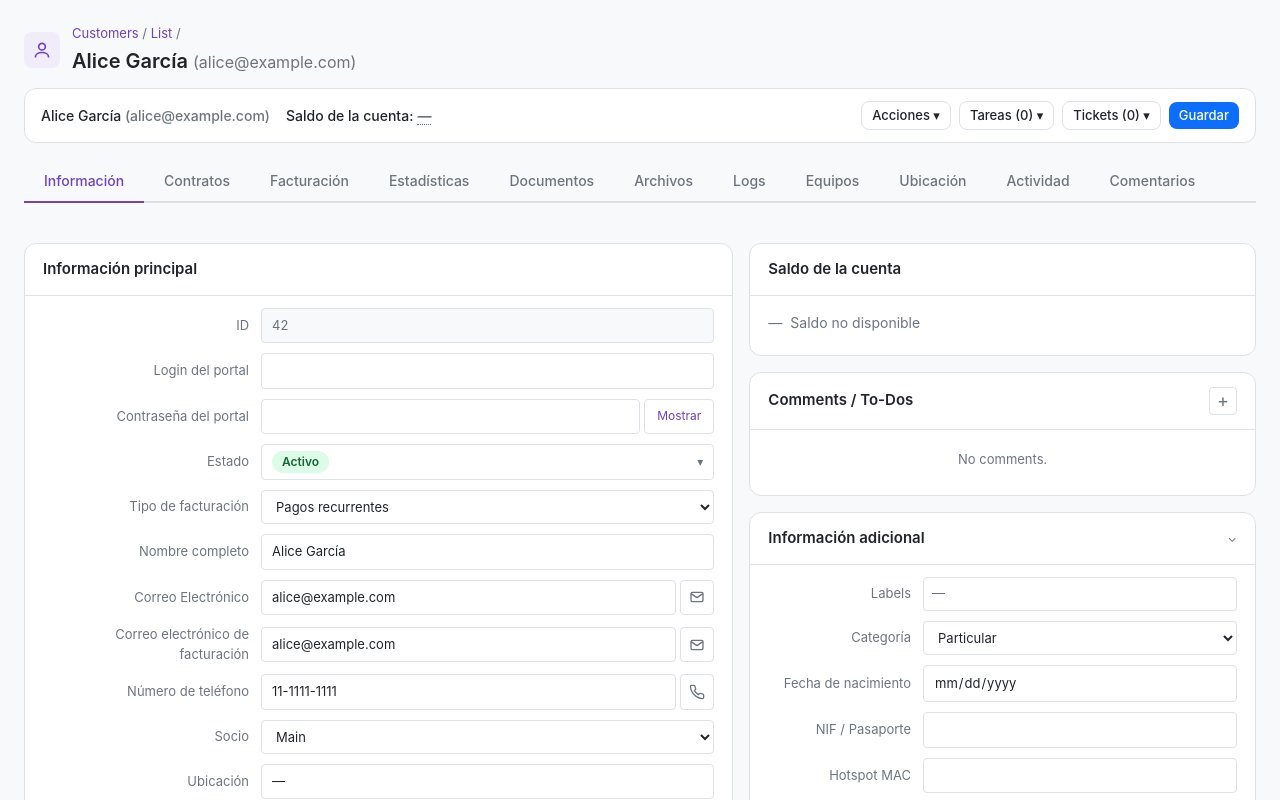
Scenario: CustomerDetailPage – Acciones dropdown portalizado (Deuda #5) › el dropdown se cierra al hacer click-outside
The width and height of the screenshot is (1280, 800).
Click the button "Acciones ▾". click: (906, 115)
box: [861,100,951,130]
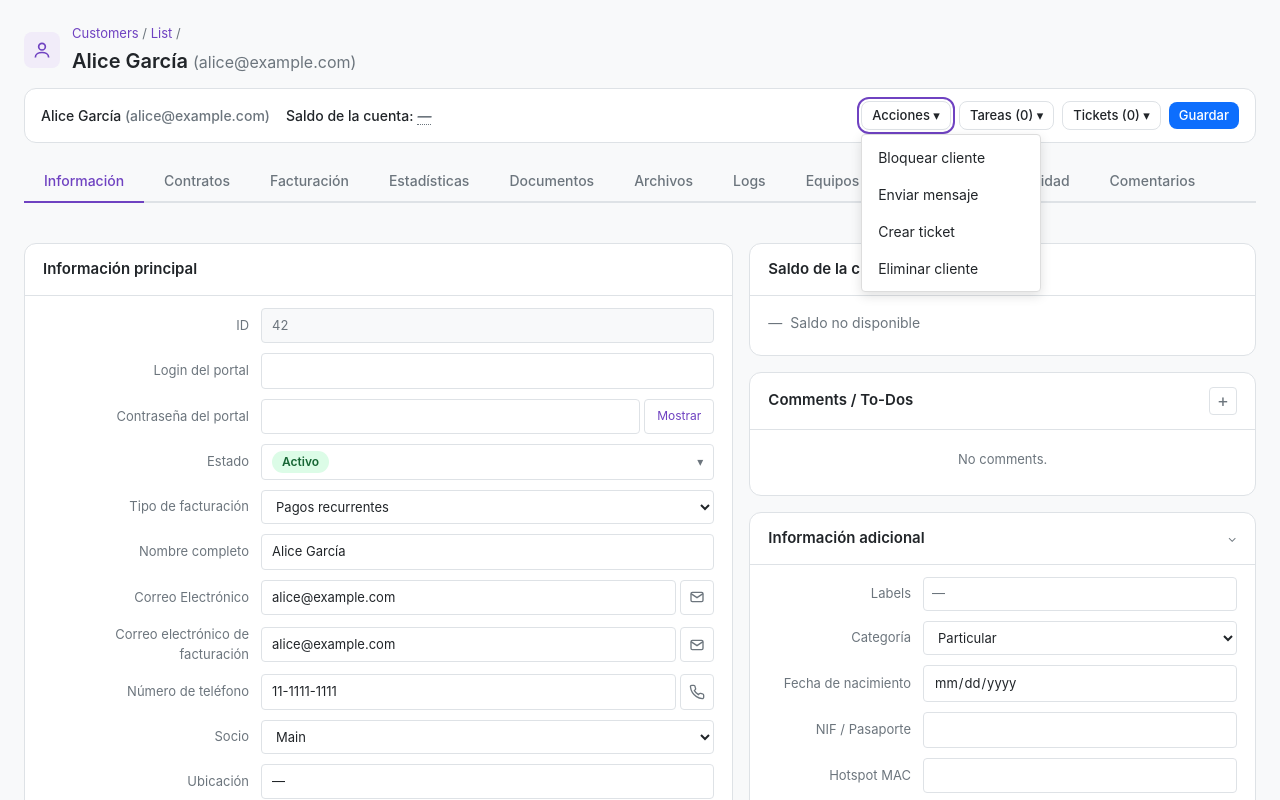
Result: the button "Bloquear cliente" is shown at [862,139,1040,176]
Note: Click fuera del dropdown
Click the element that starts with "Customers". click: (640, 400)
box: [0,0,1279,799]
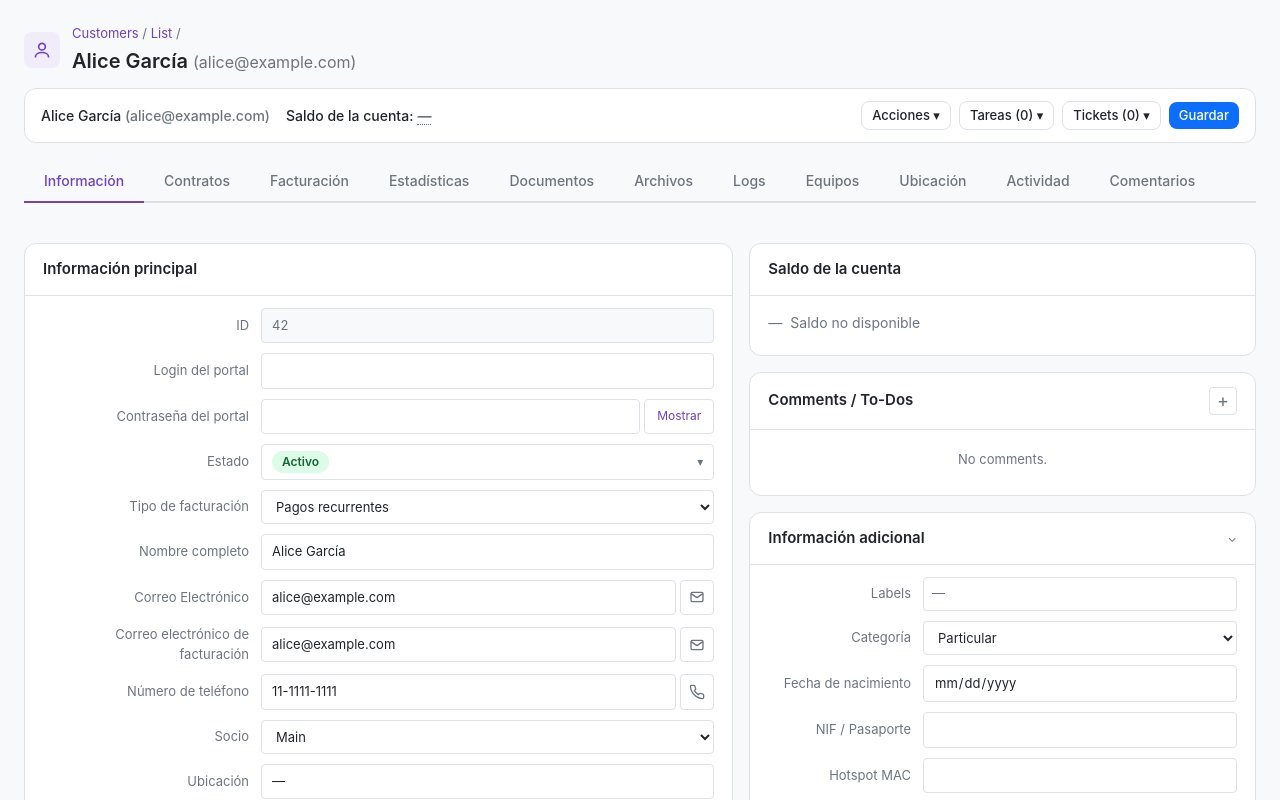
Result: the button "Bloquear cliente" is gone
